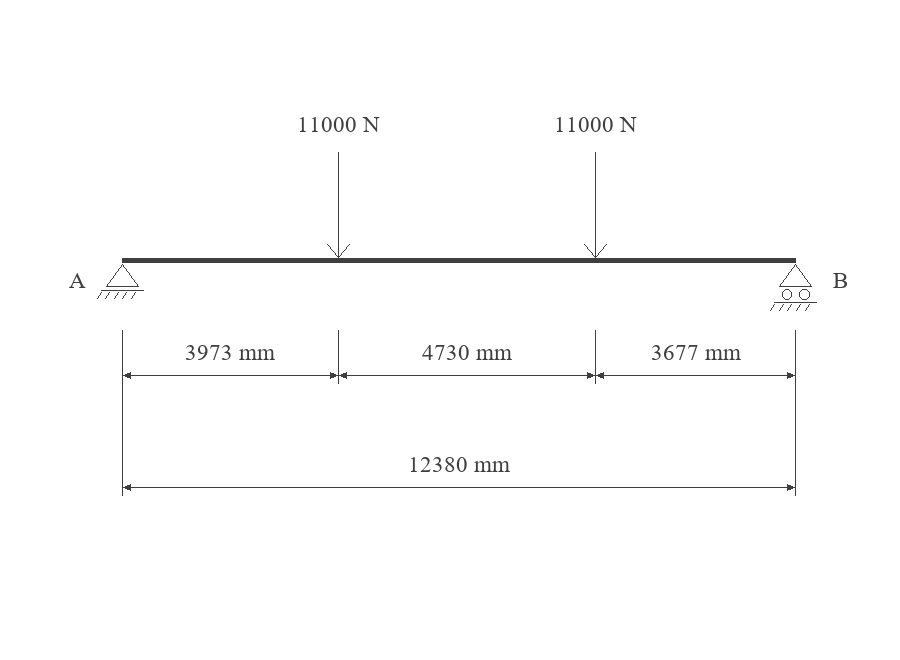pin_support: (97, 264, 144, 299)
point_load: (327, 152, 350, 258), (584, 152, 607, 258)
roller_support: (770, 264, 817, 311)
